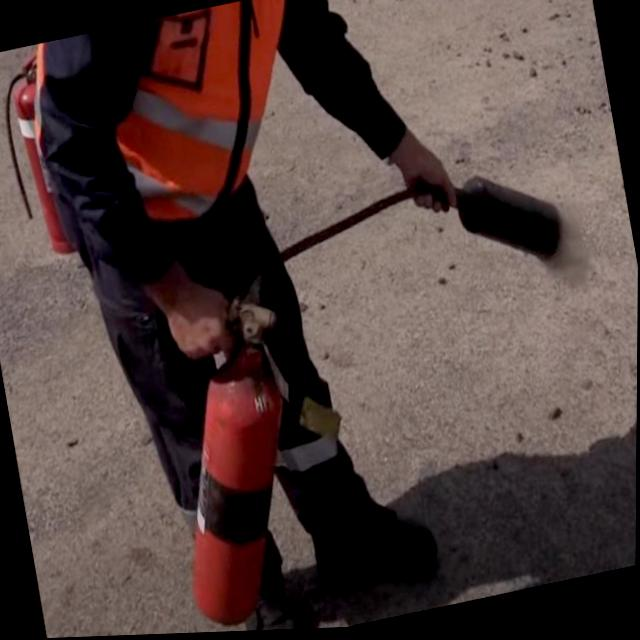FireExtinguisher: (129, 148, 623, 636), (0, 40, 105, 270)
